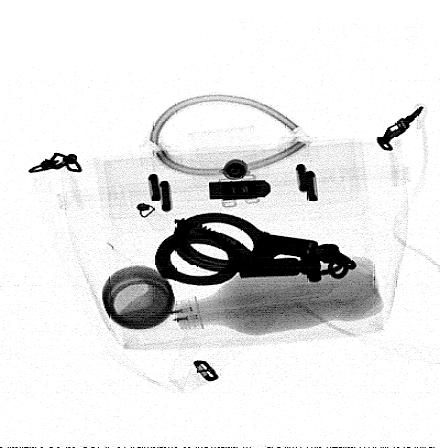HandCuffs: (154, 212, 360, 287)
